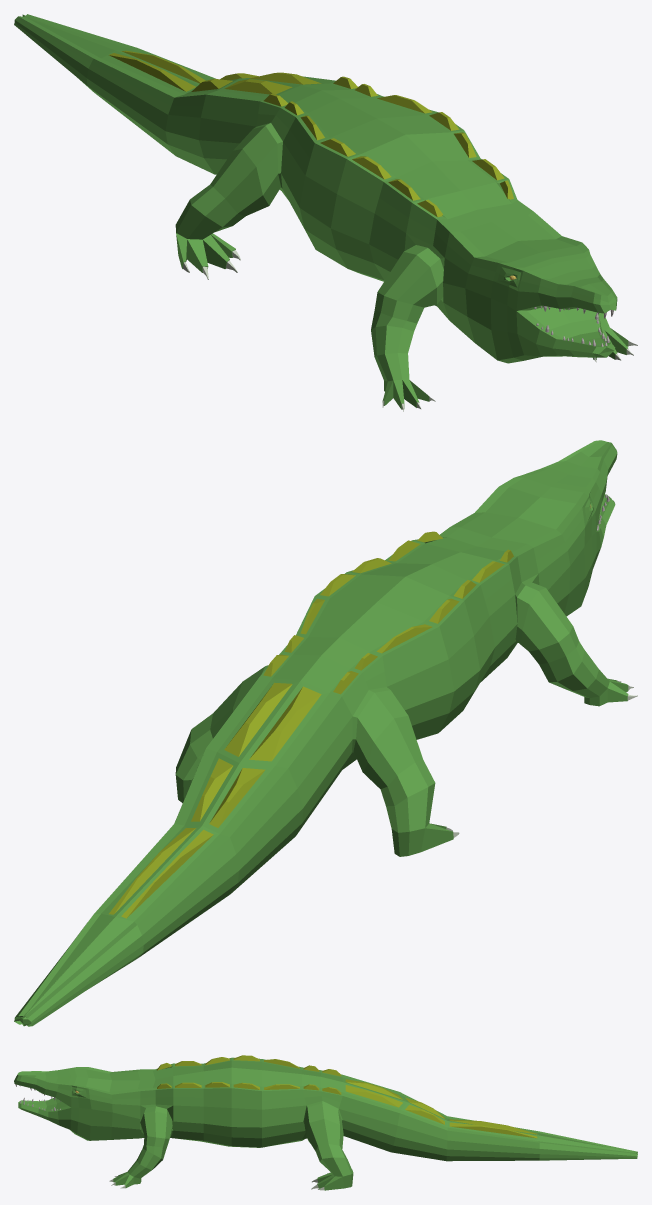
The model's file is Crocodile.fbx.
3 views of the same model, one above another, from view 1: azimuth 30°, elevation 25°; view 2: azimuth 150°, elevation 25°; view 3: azimuth 270°, elevation 25° (orthographic). The views are drawn at different scales.
Parts seen in each view (by area): view 1: Cube; view 2: Cube; view 3: Cube.
Part boxes in pixels (x1,y1,x2,y2): Cube: (14,14,637,411); Cube: (14,440,637,1026); Cube: (14,1055,637,1190).
Bounding box in the file's own units: 176 × 106 × 661.
